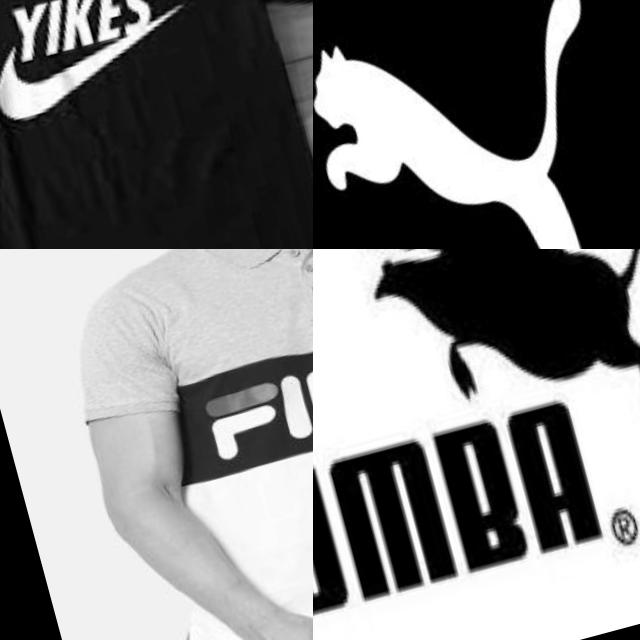FILA_original: (169, 307, 313, 496)
NIKE_fake: (0, 0, 209, 136)
PUMA_fake: (313, 249, 640, 640)
PUMA_original: (313, 0, 640, 249)
